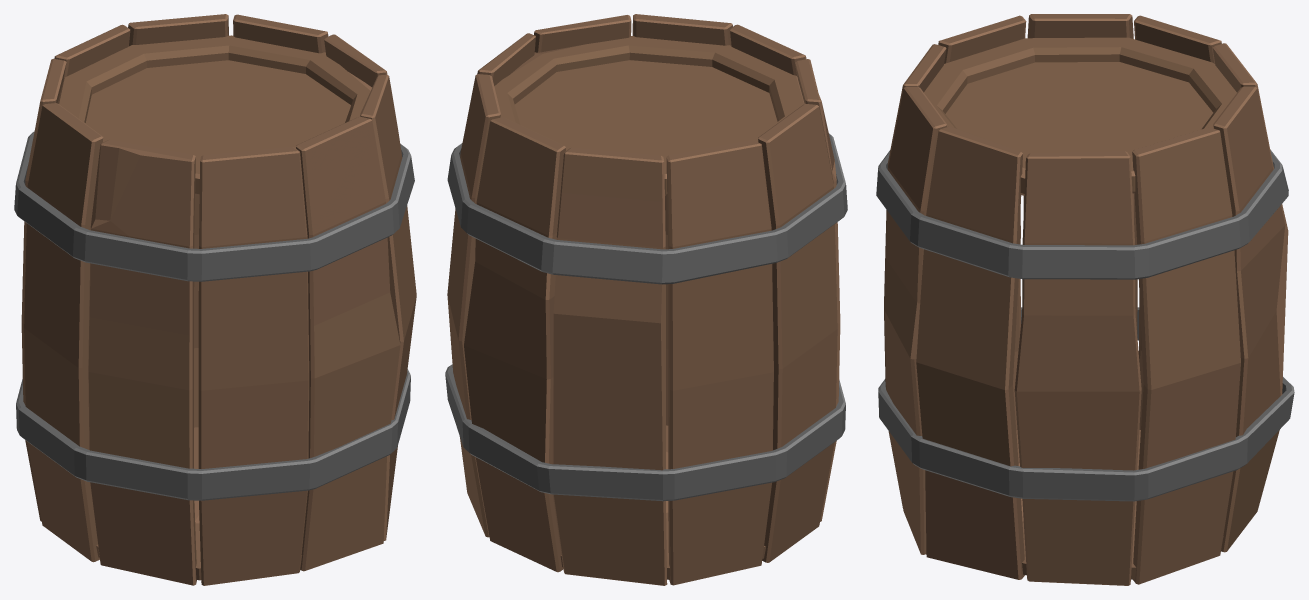
File: Barrel2.fbx
The picture shows the model from 3 angles, left to right: view 1: azimuth 30°, elevation 25°; view 2: azimuth 150°, elevation 25°; view 3: azimuth 270°, elevation 25°; orthographic projection.
Parts seen in each view (by area): view 1: Barrel2; view 2: Barrel2; view 3: Barrel2.
Boxes of the visible parts, bbox=[...] form: Barrel2: bbox=[14, 14, 416, 585]; Barrel2: bbox=[445, 14, 847, 585]; Barrel2: bbox=[876, 14, 1294, 585].
Bounding box in the file's own units: 101 × 119 × 106.
